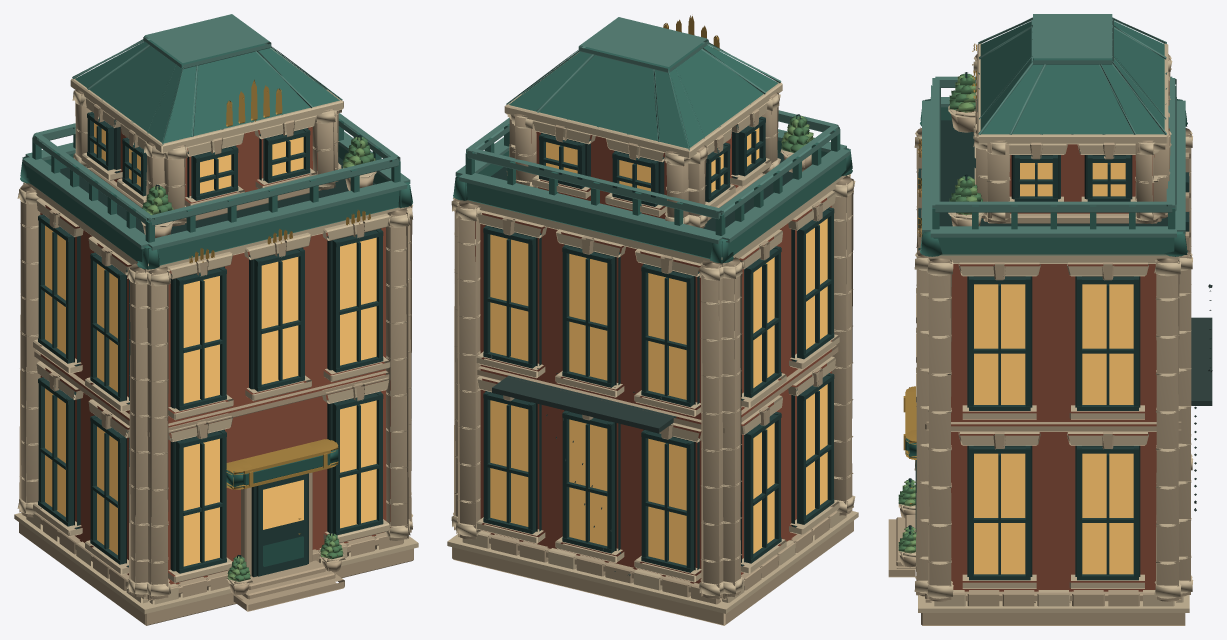
3 views of the same model, side by side, from view 1: azimuth 30°, elevation 25°; view 2: azimuth 150°, elevation 25°; view 3: azimuth 270°, elevation 25° (orthographic). The views are drawn at different scales.
Visible parts, largest first — view 1: expansion_villa_3_geometry; view 2: expansion_villa_3_geometry; view 3: expansion_villa_3_geometry.
Boxes of the visible parts, x1,y1,x2,y2 form: expansion_villa_3_geometry: [14, 14, 418, 625]; expansion_villa_3_geometry: [447, 15, 858, 625]; expansion_villa_3_geometry: [888, 14, 1212, 625].
Size of the model in its own units: 0.99 by 1.69 by 0.955.
